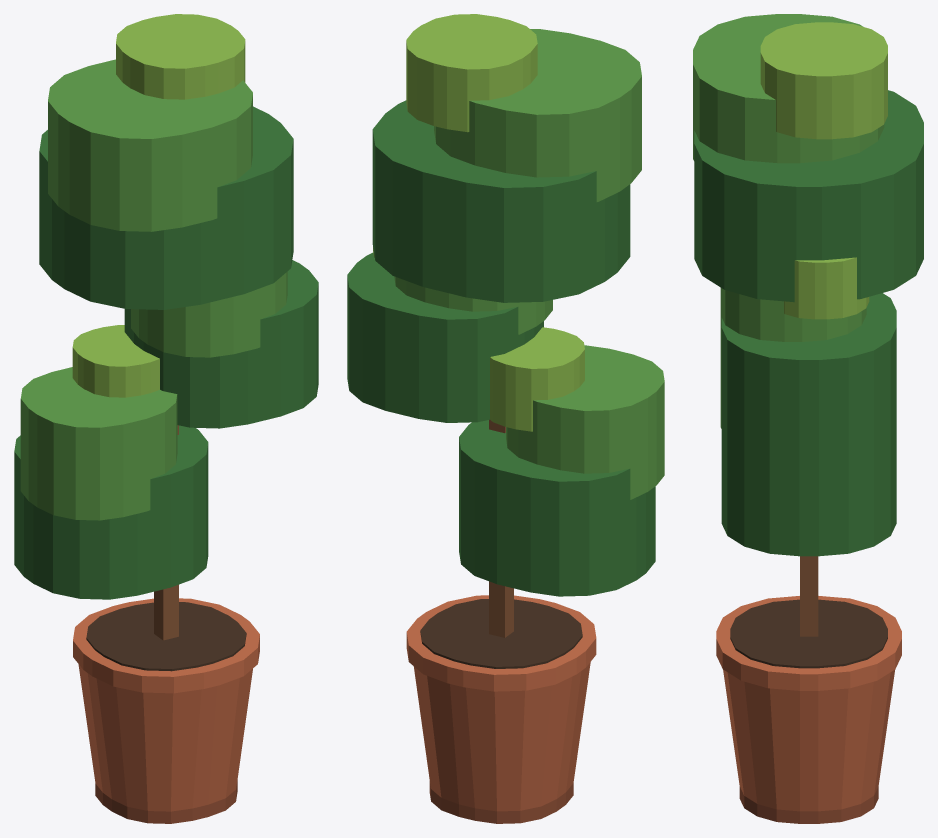
File: plant.glb
3 renders of one model, left to right at view 1: azimuth 30°, elevation 25°; view 2: azimuth 150°, elevation 25°; view 3: azimuth 270°, elevation 25°, orthographic.
Visible parts, largest first — view 1: plant_Body; view 2: plant_Body; view 3: plant_Body.
Part boxes in pixels (x1=…): plant_Body: x1=14, y1=14, x2=318, y2=823; plant_Body: x1=347, y1=14, x2=664, y2=823; plant_Body: x1=693, y1=14, x2=923, y2=823.
Size of the model in its own units: 0.7084 by 1.8 by 0.4978.
